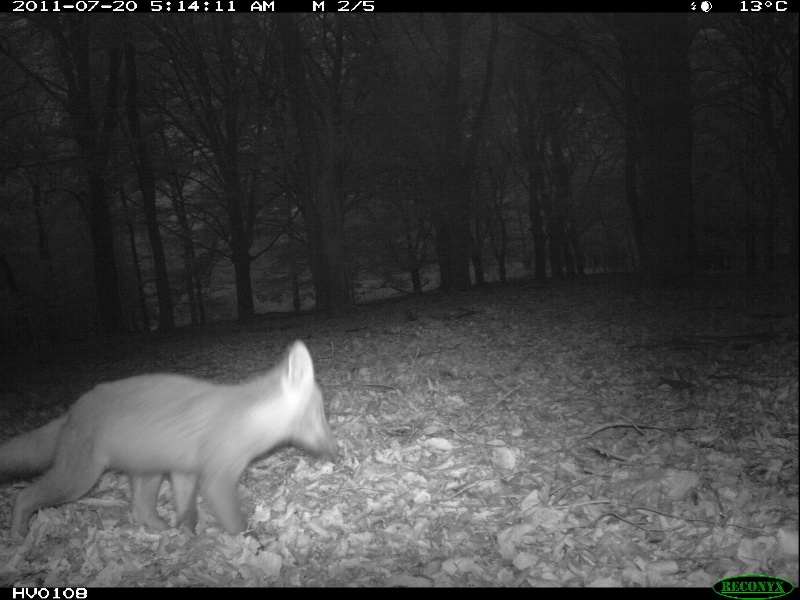fox: (1, 338, 337, 550)
